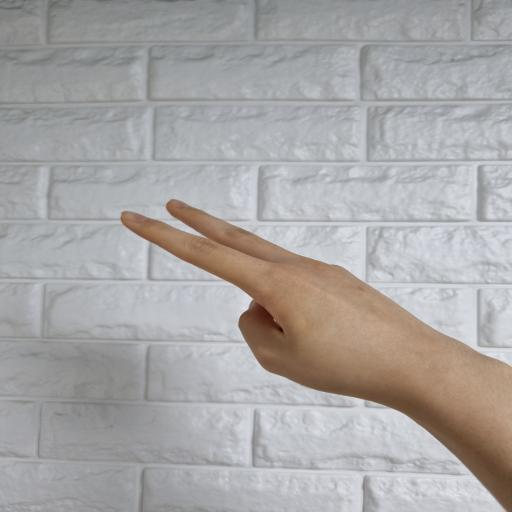Scissors: (122, 201, 512, 512)
